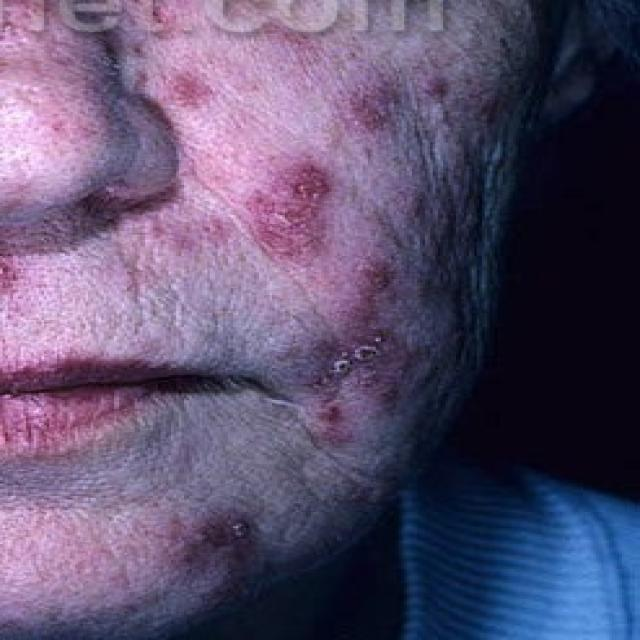Rosacea: (202, 148, 399, 321)
